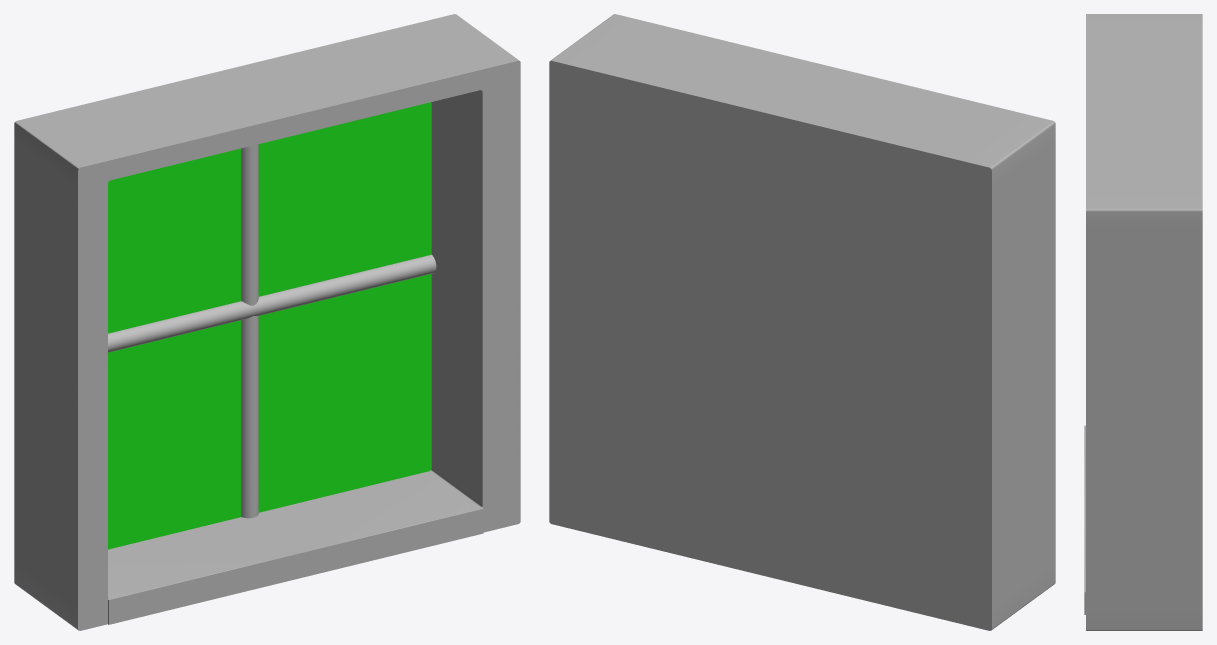
The model's file is SquareSimple.fbx.
3 renders of one model, left to right at view 1: azimuth 30°, elevation 25°; view 2: azimuth 150°, elevation 25°; view 3: azimuth 270°, elevation 25°, orthographic. The views are drawn at different scales.
Parts seen in each view (by area): view 1: pCube31, pCube31.001, pCylinder14; view 2: pCube31; view 3: pCube31.
Part boxes in pixels (x1=…): pCube31: x1=14, y1=14, x2=520, y2=630; pCube31.001: x1=108, y1=102, x2=431, y2=549; pCylinder14: x1=108, y1=144, x2=436, y2=518; pCube31: x1=549, y1=14, x2=1055, y2=630; pCube31: x1=1084, y1=14, x2=1202, y2=630.
Bounding box in the file's own units: 100 × 100 × 25.37.
